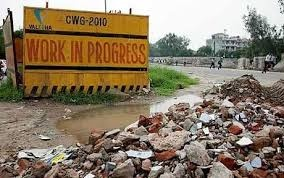rubble: (134, 95, 284, 176)
